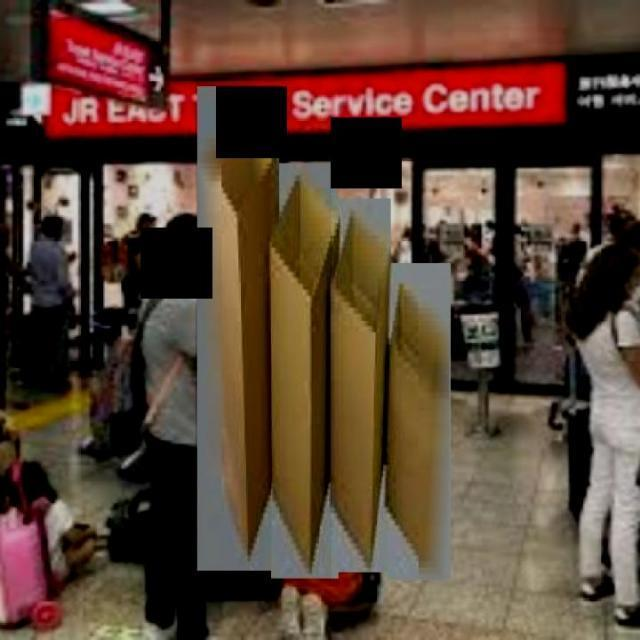box: (195, 79, 282, 580), (271, 156, 341, 586), (332, 192, 392, 580), (388, 260, 452, 584)
